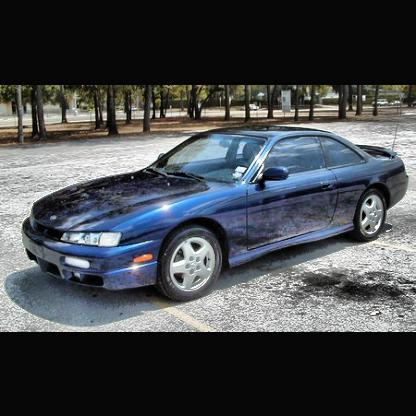Nissan 240SX Coupe 1998: (24, 126, 411, 305)
